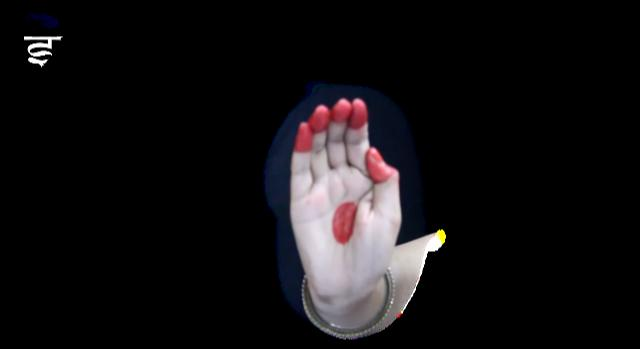sarpsheesh: (290, 98, 434, 339)
